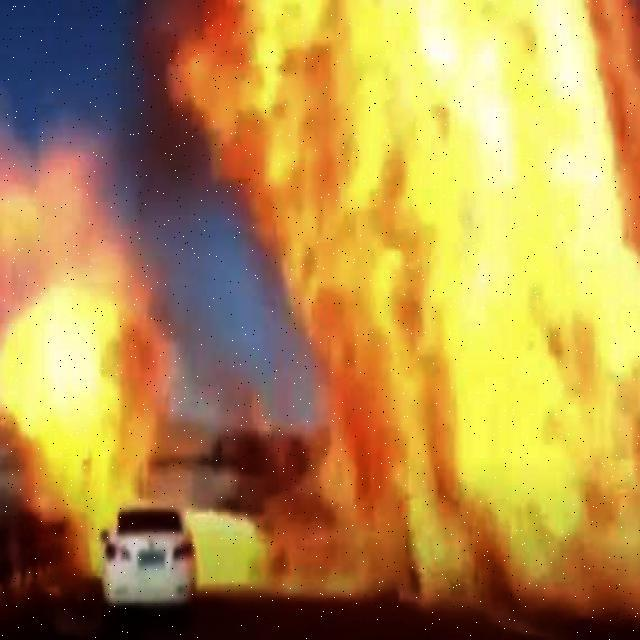Fire: (3, 0, 639, 639)
